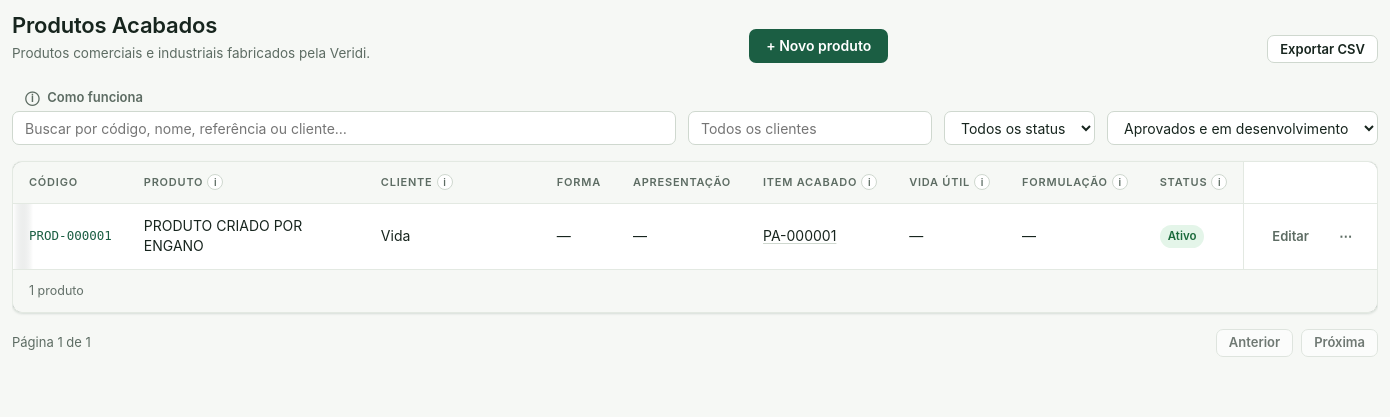
Test case: quem vê › Administrador: o menu da linha tem Excluir definitivamente, além de Inativar
expect the text "PROD-000001" is shown: met, box [13, 204, 128, 269]
Click the button named "Mais ações de PROD-000001": click(1346, 236) [1330, 222, 1361, 250]
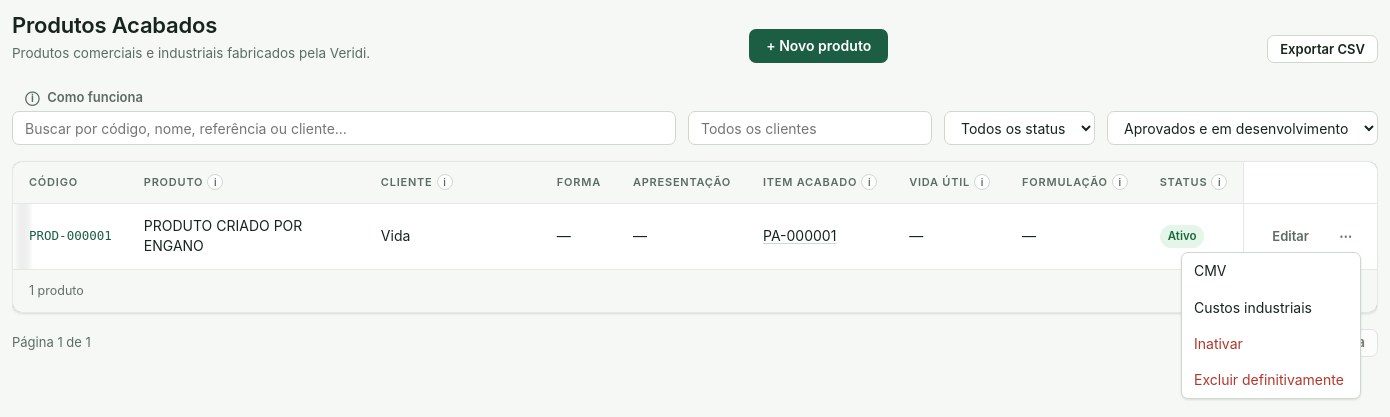
expect the menu item "Inativar" is shown: met, box [1182, 326, 1360, 362]
expect the menu item "Excluir definitivamente" is shown: met, box [1182, 362, 1360, 398]
